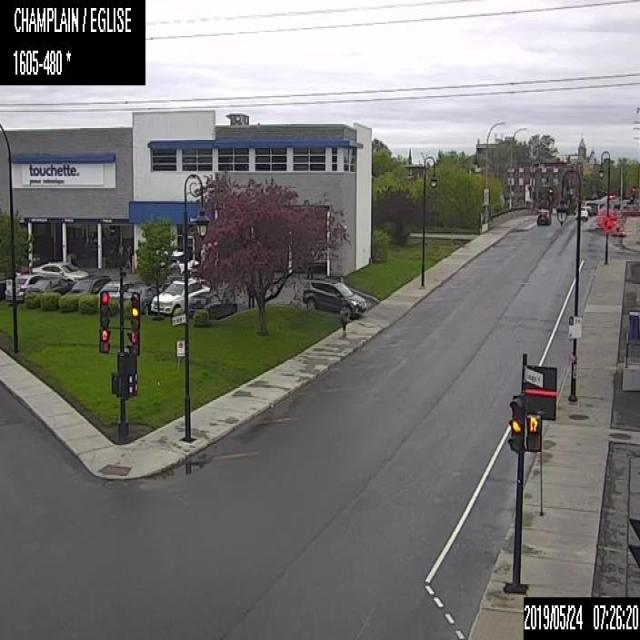construction: (601, 216, 613, 233)
pedestrian: (339, 304, 348, 337), (306, 248, 313, 277)
vehicle: (302, 277, 366, 318), (150, 277, 210, 315), (188, 290, 237, 318), (31, 260, 88, 282), (123, 282, 160, 315), (4, 272, 43, 301), (25, 275, 73, 296), (70, 274, 111, 293), (0, 270, 19, 298), (97, 279, 126, 296), (536, 207, 551, 224), (584, 200, 598, 214), (576, 206, 588, 220), (580, 204, 592, 215)
